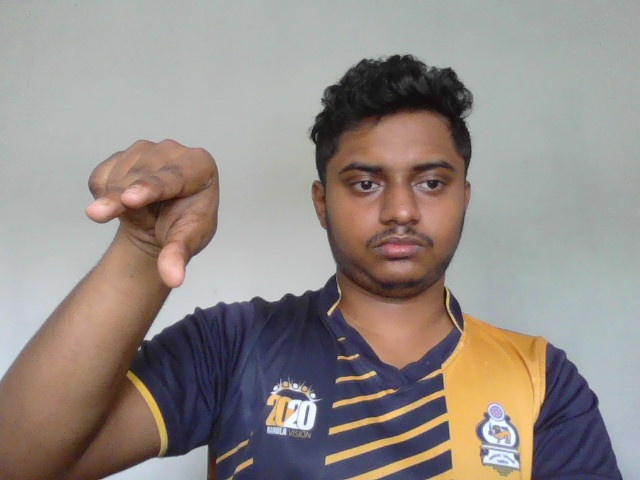No: (85, 140, 221, 286)
